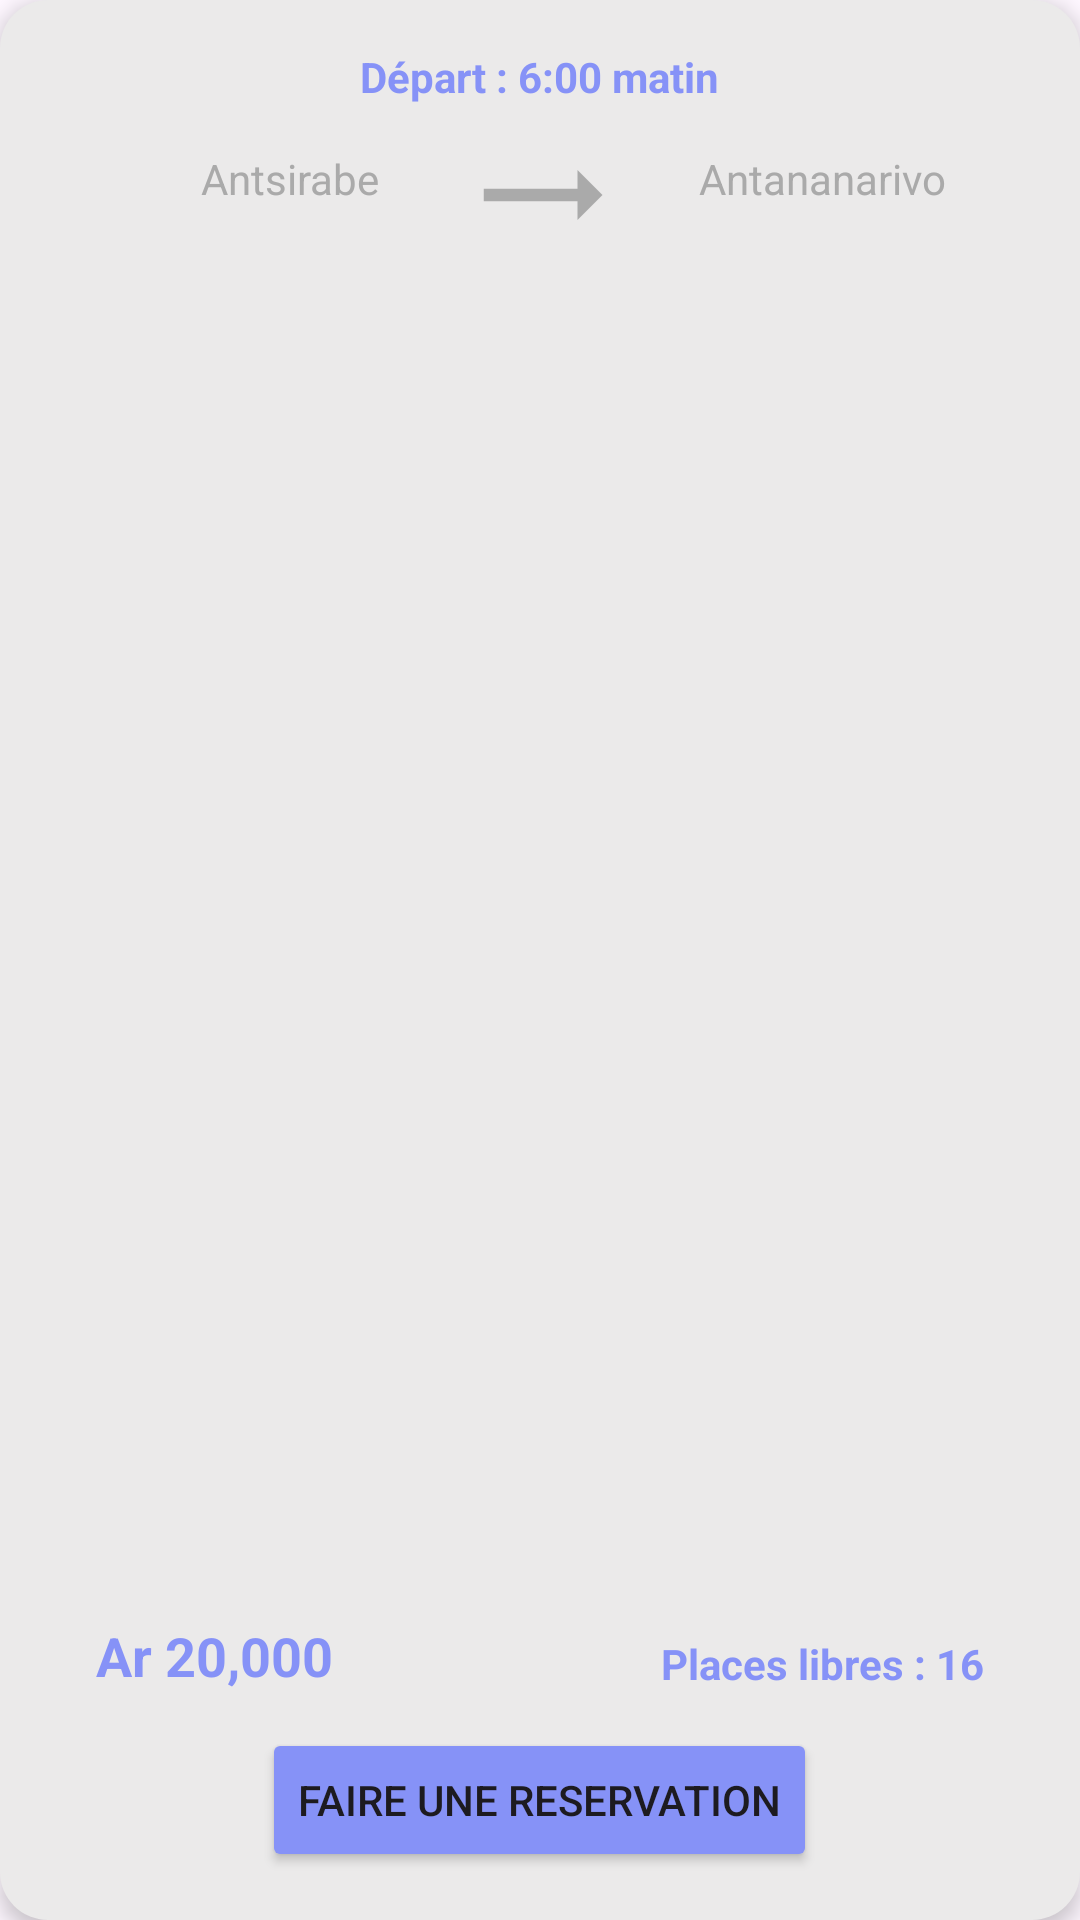

Screen size 1080x1920. Icon name, then its box in pixels as (x1, y1, x2, y2):
flech: (484, 170, 602, 220)
